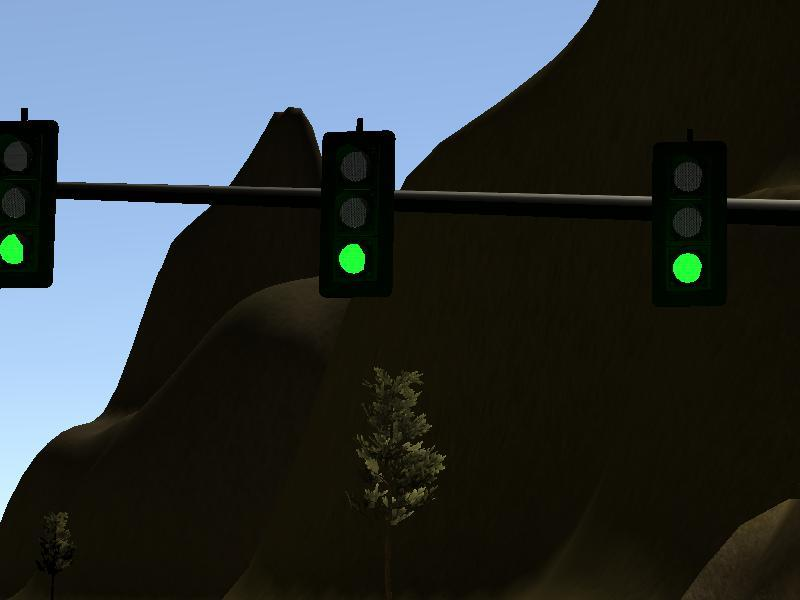Green: (654, 145, 722, 298), (326, 133, 391, 292), (1, 123, 51, 283)
